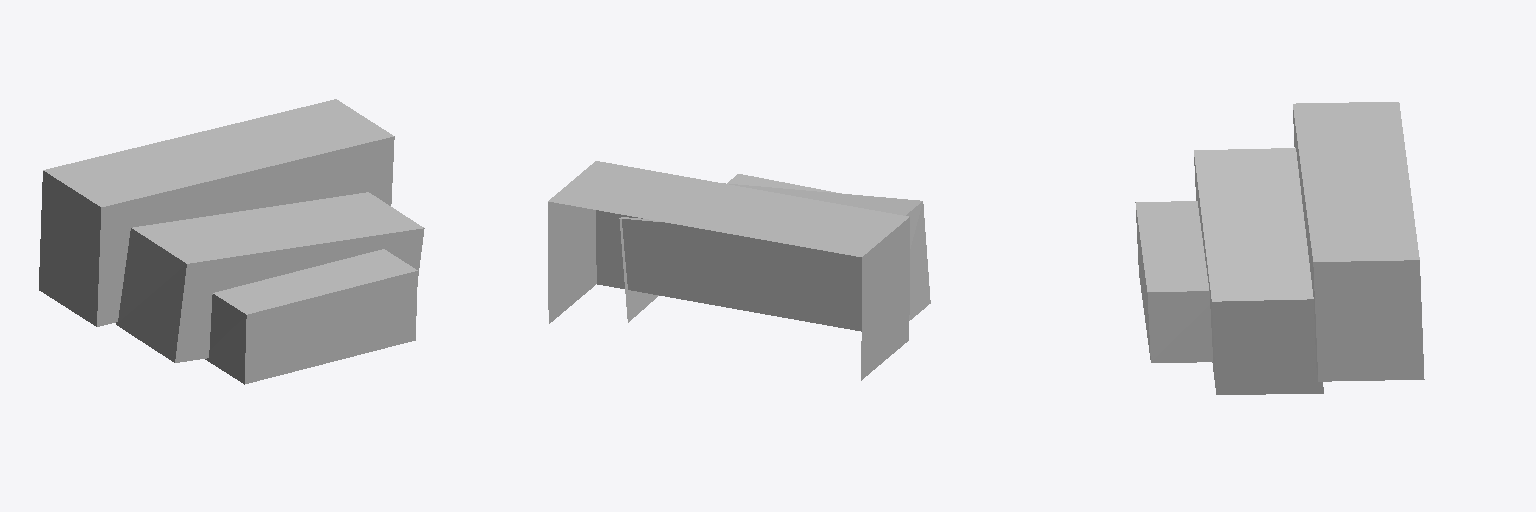
Rendered from MDL_Turret_Steps.obj.
The picture shows the model from 3 angles: view 1: azimuth 30°, elevation 25°; view 2: azimuth 150°, elevation 25°; view 3: azimuth 270°, elevation 25°; orthographic projection.
Visible parts, largest first — view 1: MDL_Turret_Steps; view 2: MDL_Turret_Steps; view 3: MDL_Turret_Steps.
Boxes of the visible parts, box(x1,y1,x2,y2) form: MDL_Turret_Steps: box(39, 99, 424, 384); MDL_Turret_Steps: box(548, 161, 930, 380); MDL_Turret_Steps: box(1135, 102, 1424, 394).
Size of the model in its own units: 3.3 by 1.63 by 2.66.